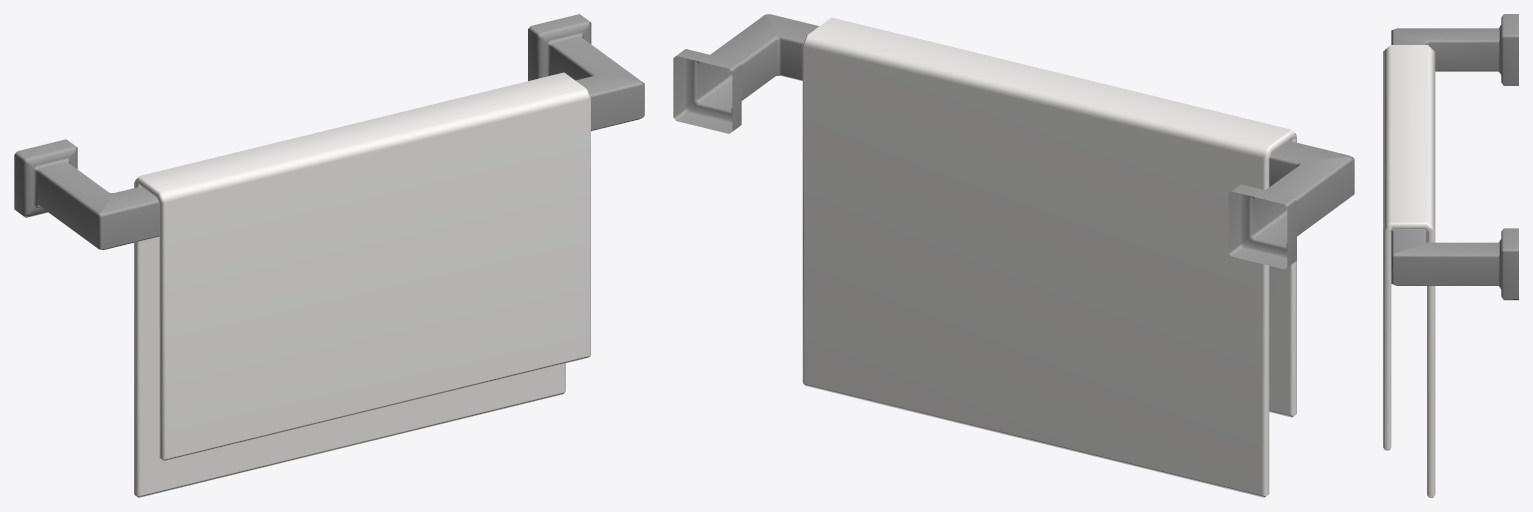
Rendered from Towel_1.glb.
3 renders of one model, left to right at view 1: azimuth 30°, elevation 25°; view 2: azimuth 150°, elevation 25°; view 3: azimuth 270°, elevation 25°, orthographic. The views are drawn at different scales.
Parts seen in each view (by area): view 1: Towel_1; view 2: Towel_1; view 3: Towel_1.
Part boxes in pixels (x1,y1,x2,y2): Towel_1: (14, 14, 644, 497); Towel_1: (673, 14, 1354, 497); Towel_1: (1383, 14, 1518, 497).
Bounding box in the file's own units: 0.5198 × 0.2843 × 0.126.
Materials: 1 (1 with a texture image).
